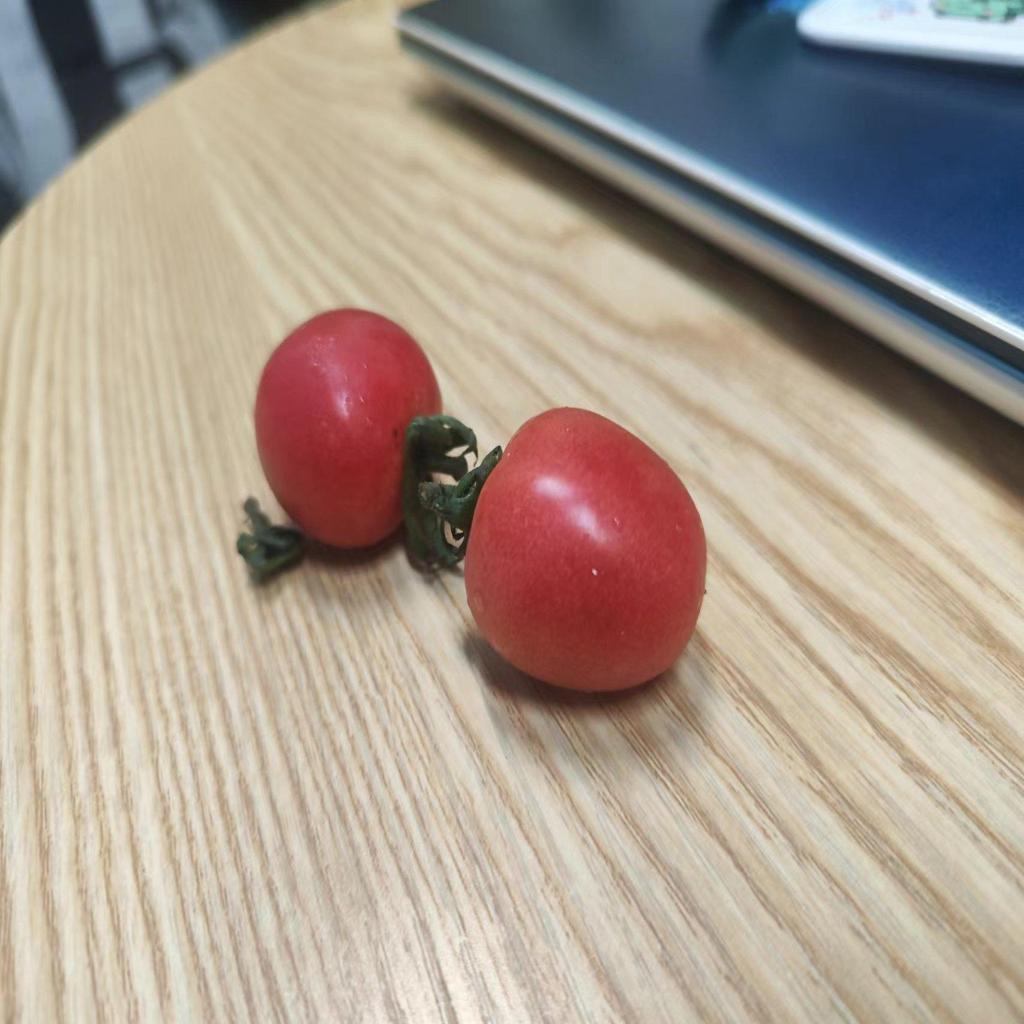tomato: (467, 397, 711, 713), (249, 317, 450, 555)
